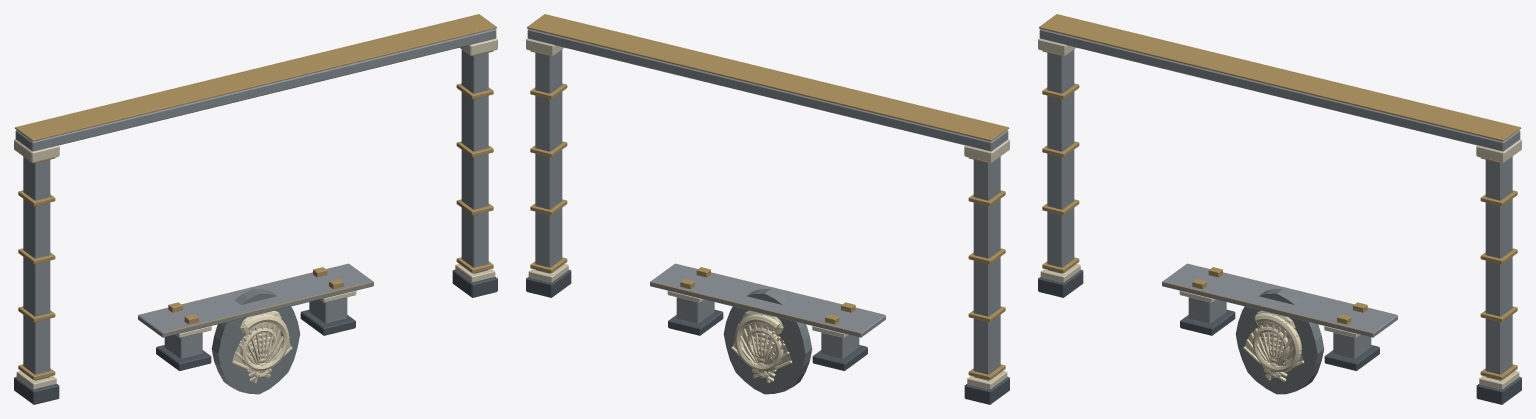
The model's file is chronicle-evidence-v01.glb.
3 renders of one model, left to right at view 1: azimuth 30°, elevation 25°; view 2: azimuth 150°, elevation 25°; view 3: azimuth 330°, elevation 25°, orthographic.
Visible parts, largest first — view 1: Supported wall lintel.001, Layer witness collar.010, Continuous tabletop.001, Weathered specimen stone.004, Wall capital.002, Wall foot.002, Grounded stand foot.002, Ammonite continuous spiral.002, Core cradle saddle.004, Shell hinge.002, Trilobite head.002; view 2: Supported wall lintel.001, Layer witness collar.010, Continuous tabletop.001, Weathered specimen stone.004, Wall capital.002, Wall foot.002, Grounded stand foot.002, Ammonite continuous spiral.002, Core cradle saddle.004, Shell hinge.002, Trilobite head.002; view 3: Supported wall lintel.001, Layer witness collar.010, Continuous tabletop.001, Weathered specimen stone.004, Wall capital.002, Wall foot.002, Grounded stand foot.002, Ammonite continuous spiral.002, Core cradle saddle.004, Shell hinge.002, Trilobite head.002.
Part boxes in pixels (left/top/right/bottom): Supported wall lintel.001: left=15, top=29, right=496, bottom=380; Layer witness collar.010: left=15, top=14, right=496, bottom=380; Continuous tabletop.001: left=138, top=264, right=373, bottom=359; Weathered specimen stone.004: left=211, top=288, right=300, bottom=394; Wall capital.002: left=14, top=38, right=497, bottom=389; Wall foot.002: left=14, top=269, right=497, bottom=404; Grounded stand foot.002: left=156, top=309, right=355, bottom=370; Ammonite continuous spiral.002: left=240, top=314, right=289, bottom=371; Core cradle saddle.004: left=139, top=263, right=373, bottom=333; Shell hinge.002: left=231, top=324, right=292, bottom=377; Trilobite head.002: left=240, top=310, right=281, bottom=381; Supported wall lintel.001: left=527, top=29, right=1008, bottom=380; Layer witness collar.010: left=527, top=14, right=1008, bottom=380; Continuous tabletop.001: left=650, top=264, right=885, bottom=359; Weathered specimen stone.004: left=723, top=288, right=812, bottom=394; Wall capital.002: left=526, top=38, right=1009, bottom=389; Wall foot.002: left=526, top=269, right=1009, bottom=404; Grounded stand foot.002: left=668, top=309, right=867, bottom=370; Ammonite continuous spiral.002: left=734, top=314, right=783, bottom=371; Core cradle saddle.004: left=650, top=263, right=884, bottom=333; Shell hinge.002: left=731, top=324, right=792, bottom=377; Trilobite head.002: left=742, top=310, right=783, bottom=381; Supported wall lintel.001: left=1039, top=29, right=1520, bottom=380; Layer witness collar.010: left=1039, top=14, right=1520, bottom=380; Continuous tabletop.001: left=1162, top=264, right=1397, bottom=359; Weathered specimen stone.004: left=1235, top=288, right=1324, bottom=394; Wall capital.002: left=1038, top=38, right=1521, bottom=389; Wall foot.002: left=1038, top=269, right=1521, bottom=404; Grounded stand foot.002: left=1180, top=309, right=1379, bottom=370; Ammonite continuous spiral.002: left=1252, top=313, right=1301, bottom=372; Core cradle saddle.004: left=1162, top=263, right=1396, bottom=333; Shell hinge.002: left=1243, top=324, right=1304, bottom=377; Trilobite head.002: left=1254, top=310, right=1295, bottom=381.
Bounding box in the file's own units: 9.68 × 6.25 × 0.905.
